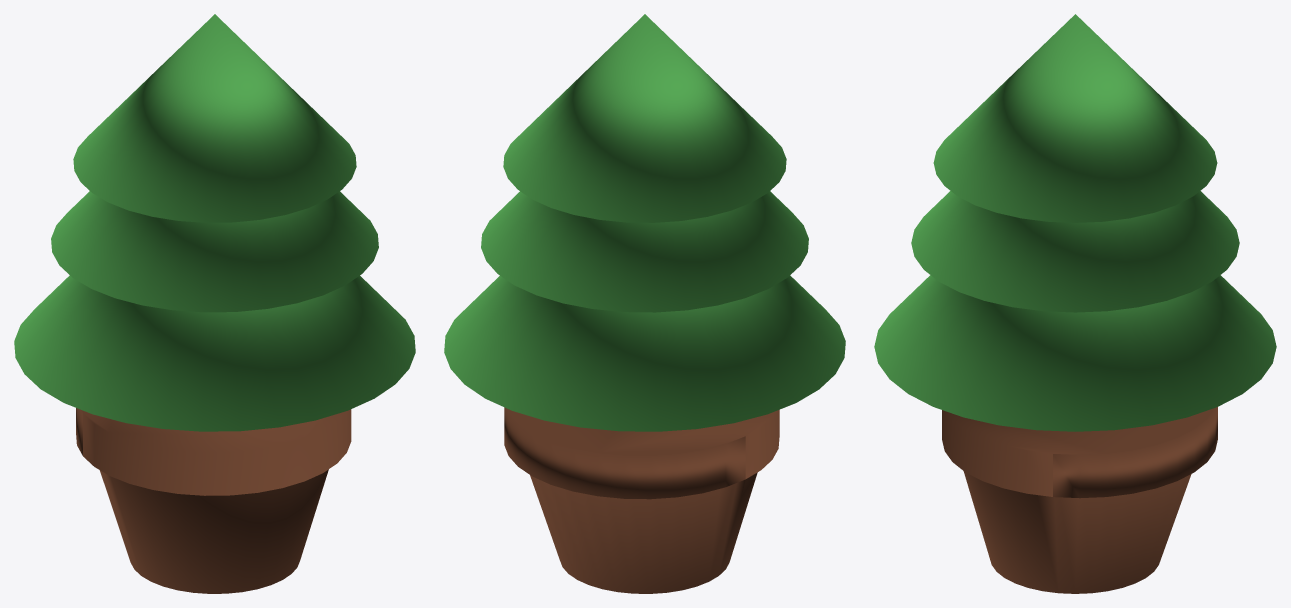
The model's file is ChrisTree.gltf.
3 renders of one model, left to right at view 1: azimuth 30°, elevation 25°; view 2: azimuth 150°, elevation 25°; view 3: azimuth 270°, elevation 25°, orthographic.
Visible parts, largest first — view 1: Cone.002, Cone, Cylinder, Cone.001; view 2: Cone.002, Cone, Cylinder, Cone.001; view 3: Cone.002, Cone, Cylinder, Cone.001.
Part boxes in pixels (x1,y1,x2,y2): Cone.002: (14,275,415,431); Cone: (73,14,356,222); Cylinder: (76,408,351,593); Cone.001: (51,191,378,312); Cone.002: (444,275,845,431); Cone: (503,14,786,222); Cylinder: (504,407,779,593); Cone.001: (481,191,808,312); Cone.002: (874,275,1276,431); Cone: (933,14,1217,222); Cylinder: (942,407,1217,593); Cone.001: (911,191,1239,312).
Size of the model in its own units: 4.72 by 7.04 by 4.72.
